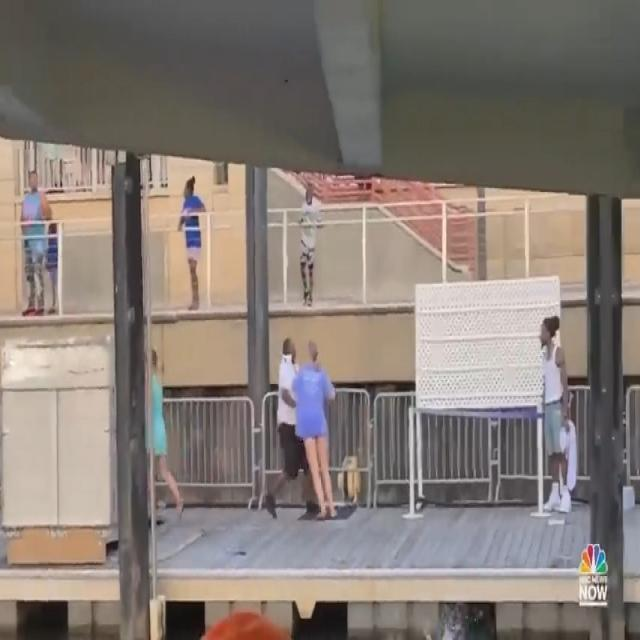fight: (266, 329, 341, 532)
non-fight: (526, 308, 584, 520)
